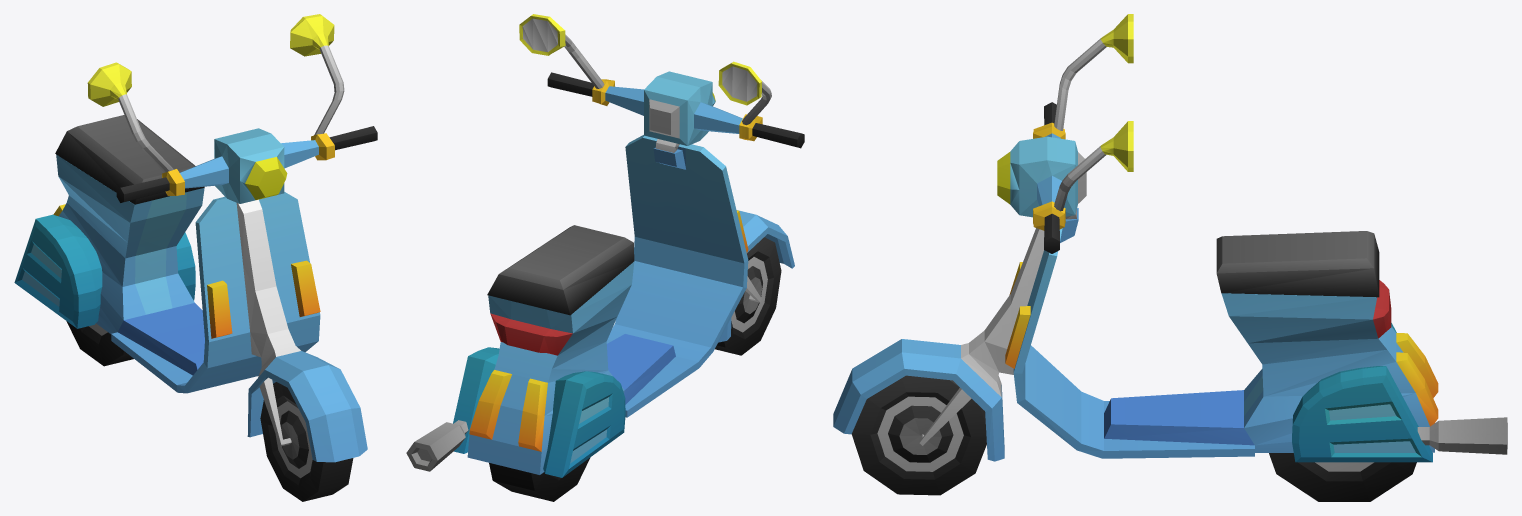
Rendered from pp_moped.fbx.
The picture shows the model from 3 angles, left to right: view 1: azimuth 30°, elevation 25°; view 2: azimuth 150°, elevation 25°; view 3: azimuth 270°, elevation 25°; orthographic projection. The views are drawn at different scales.
Parts seen in each view (by area): view 1: pp_moped_LOD0; view 2: pp_moped_LOD0; view 3: pp_moped_LOD0.
Boxes of the visible parts, x1,y1,x2,y2 form: pp_moped_LOD0: (14,14,377,501); pp_moped_LOD0: (406,14,804,501); pp_moped_LOD0: (833,14,1507,501).
Size of what is drawn, in the model's own units: 0.7957 by 1.15 by 1.68.
